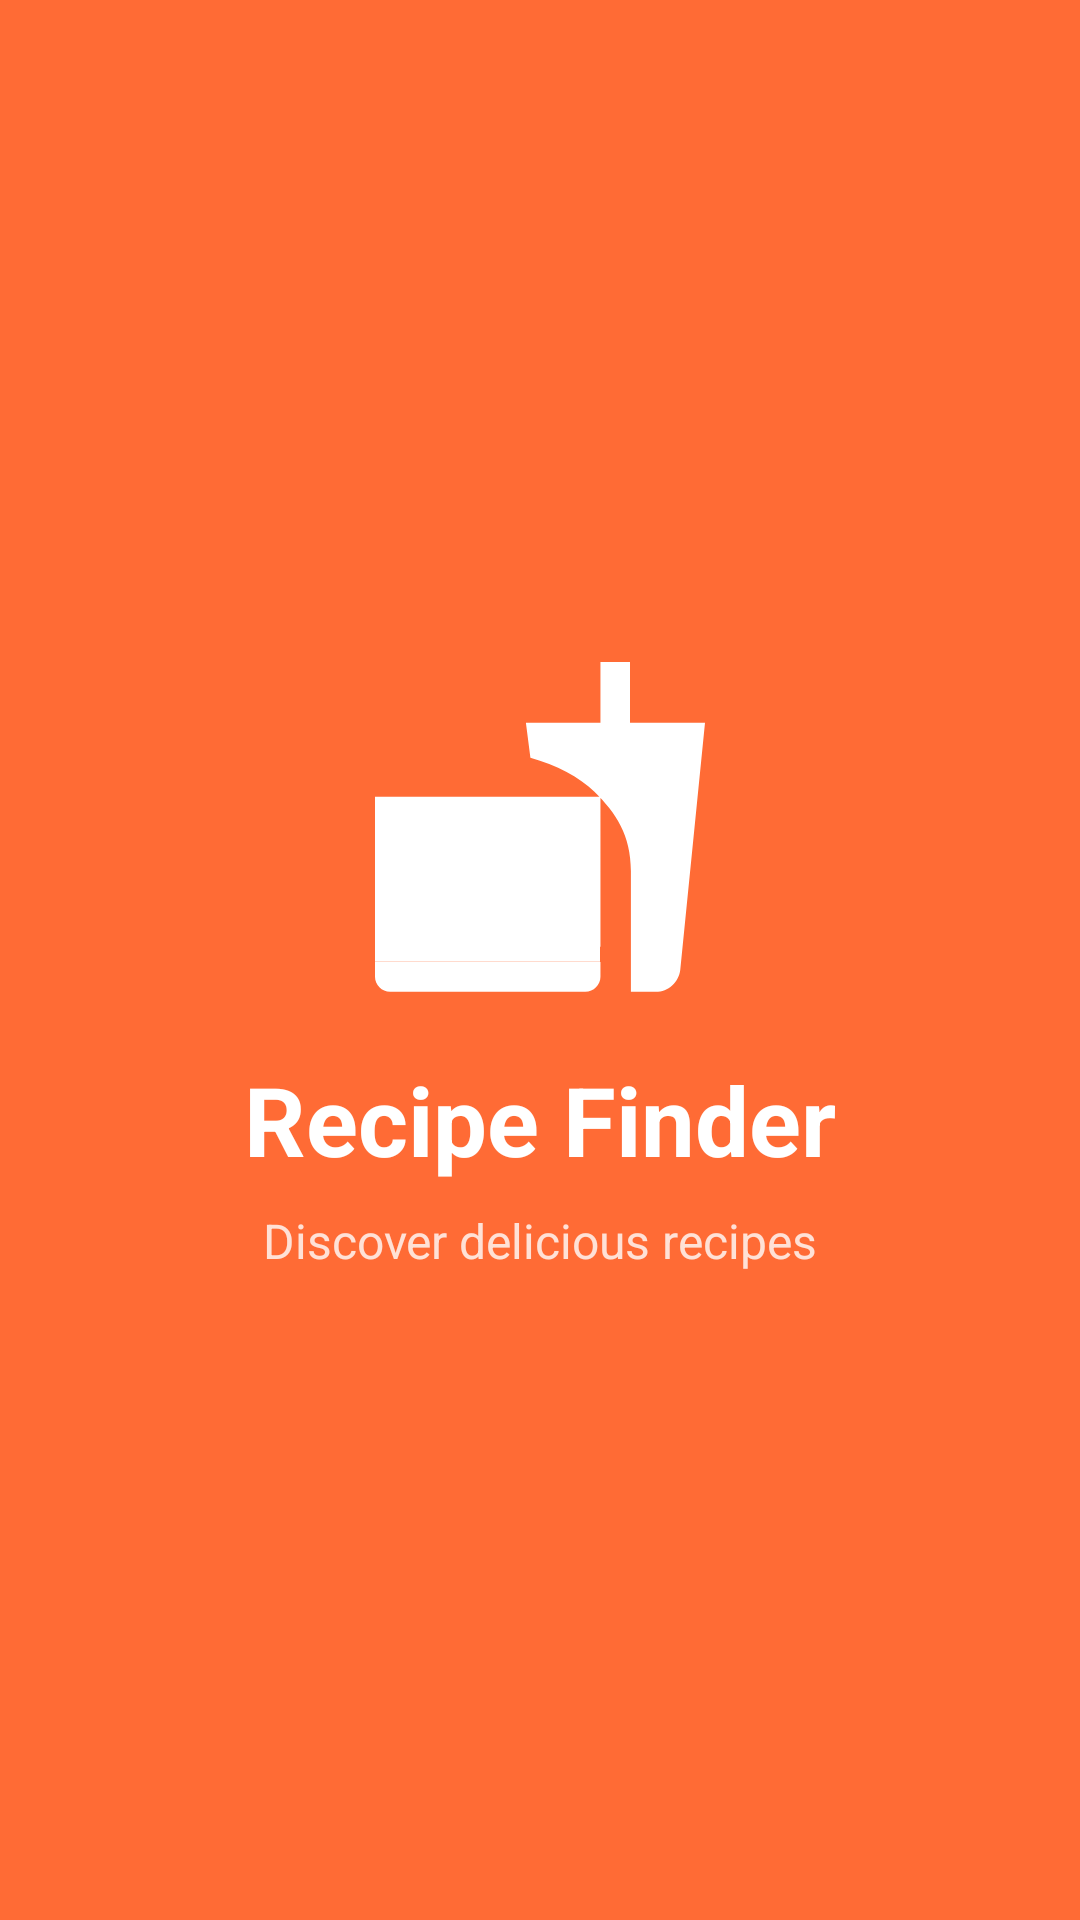

Locate icon controls on the screen. Image size 1080x1920, boxes as (x1, y1, x2, y2).
food: (375, 662, 705, 992)
